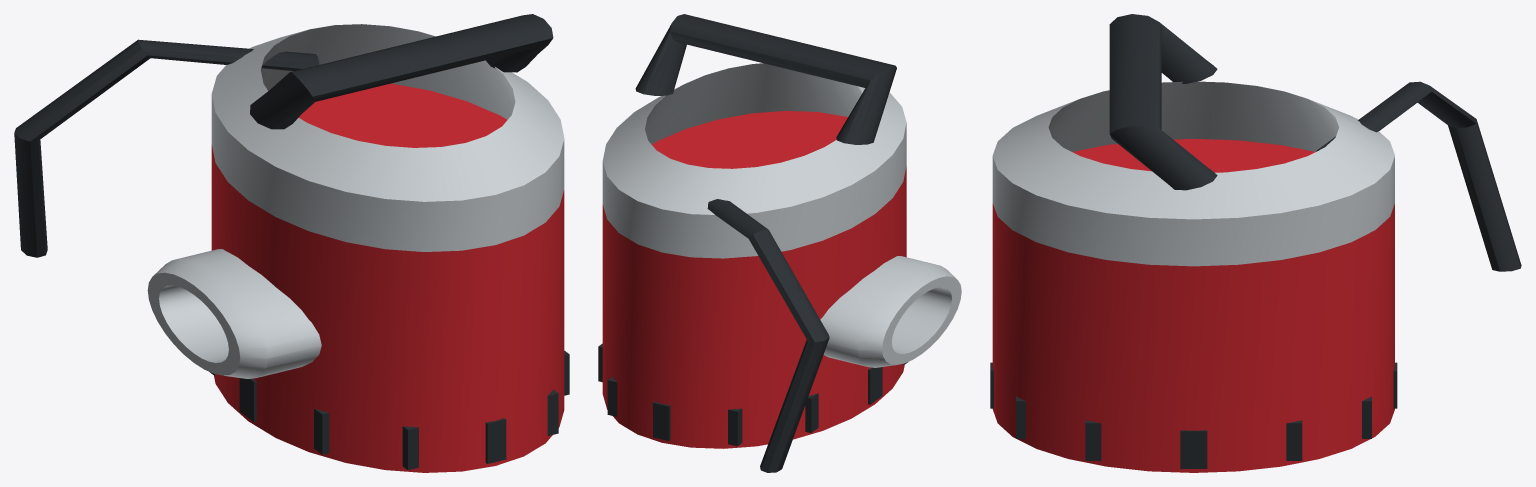
File: ob_water_pump.glb
The picture shows the model from 3 angles, left to right: view 1: azimuth 30°, elevation 25°; view 2: azimuth 150°, elevation 25°; view 3: azimuth 270°, elevation 25°; orthographic projection. The views are drawn at different scales.
Parts seen in each view (by area): view 1: ob_water_pump; view 2: ob_water_pump; view 3: ob_water_pump.
Boxes of the visible parts, x1,y1,x2,y2 form: ob_water_pump: (14,14,569,472); ob_water_pump: (598,14,961,472); ob_water_pump: (990,14,1521,472).
Size of the model in its own units: 0.33 by 0.31 by 0.44.
